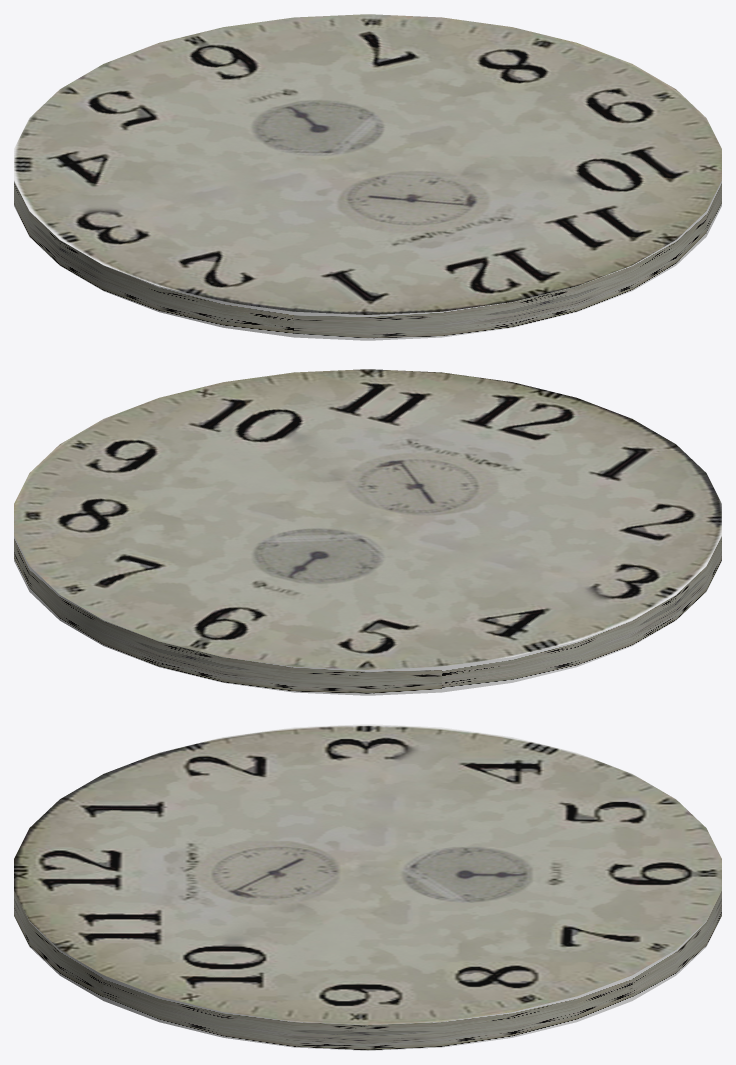
File: Clock 01.fbx
3 views of the same model, one above another, from view 1: azimuth 30°, elevation 25°; view 2: azimuth 150°, elevation 25°; view 3: azimuth 270°, elevation 25° (orthographic).
Visible parts, largest first — view 1: body; view 2: body; view 3: body.
Part boxes in pixels (box(x1,y1,x2,y2)): body: box(14, 14, 721, 340); body: box(14, 369, 721, 695); body: box(14, 724, 721, 1050).
Size of the model in its own units: 19.69 by 1.03 by 19.58.
